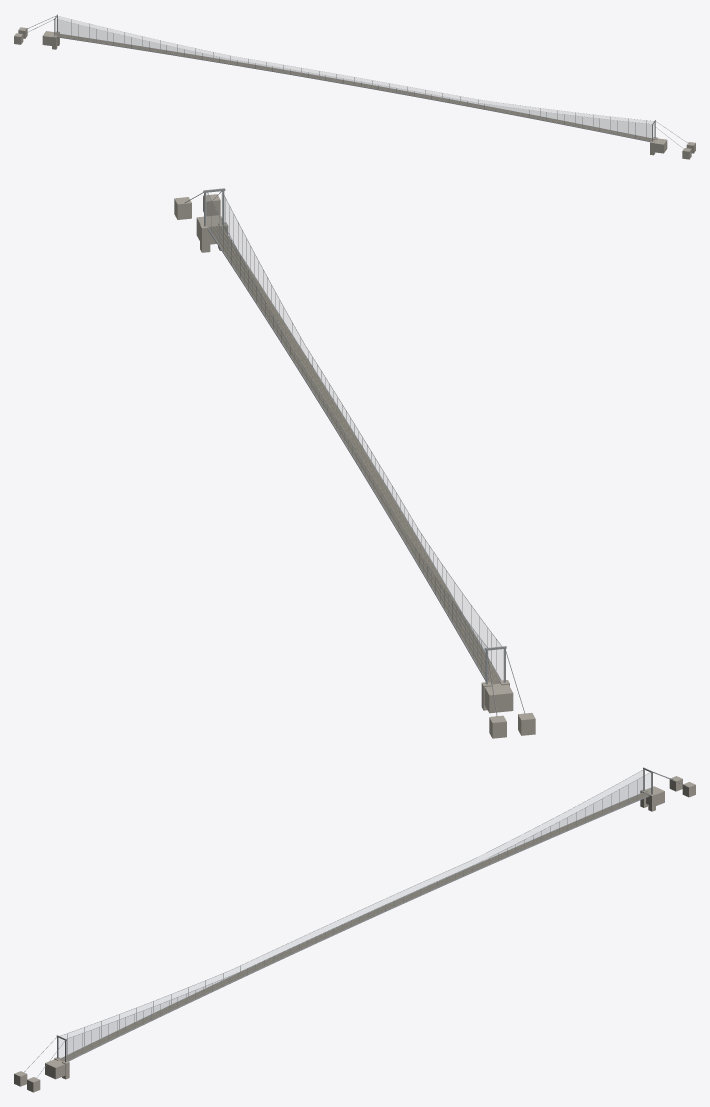
Rendered from pukaki-hooker-bluff-bridge.glb.
The picture shows the model from 3 angles, top to bottom: view 1: azimuth 30°, elevation 25°; view 2: azimuth 150°, elevation 25°; view 3: azimuth 270°, elevation 25°; orthographic projection. The views are drawn at different scales.
Visible parts, largest first — view 1: Hooker_Bluff_bridge; view 2: Hooker_Bluff_bridge; view 3: Hooker_Bluff_bridge.
Part boxes in pixels (<box>): Hooker_Bluff_bridge: <box>14,14,695,159</box>; Hooker_Bluff_bridge: <box>174,188,535,738</box>; Hooker_Bluff_bridge: <box>14,767,695,1092</box>.
Size of the model in its own units: 80.87 by 10.49 by 86.3.
Materials: 5 (1 with a texture image).
